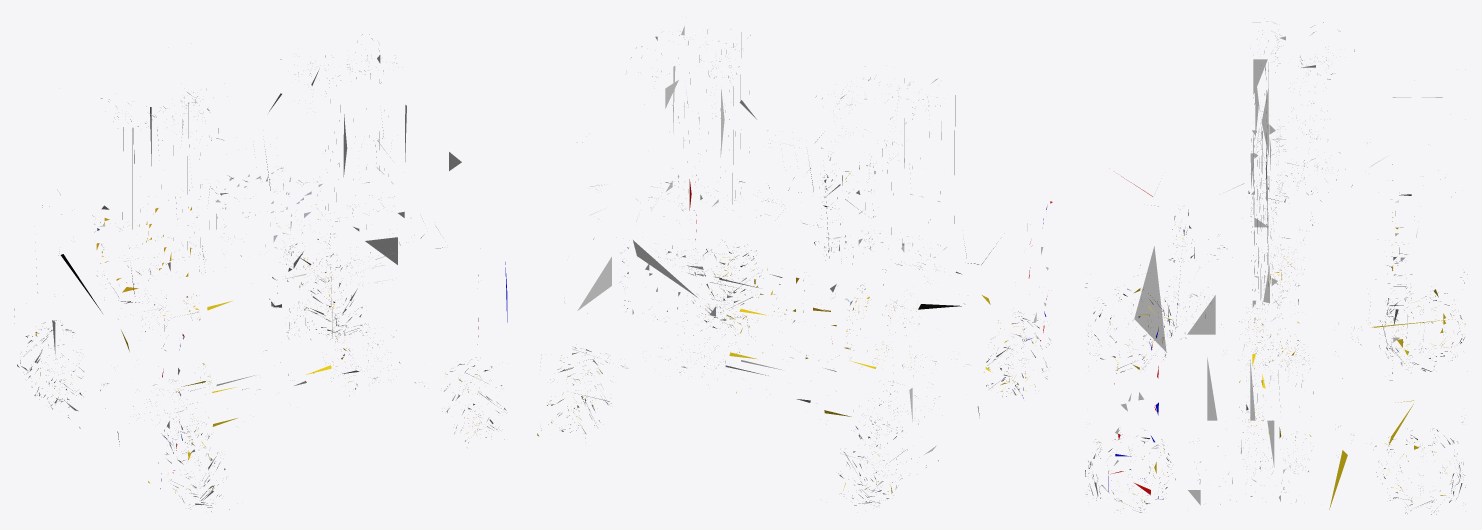
The model's file is Assembly 1 - Into the Deep-fresh-medium.glb.
The picture shows the model from 3 angles, left to right: view 1: azimuth 30°, elevation 25°; view 2: azimuth 150°, elevation 25°; view 3: azimuth 270°, elevation 25°; orthographic projection. The views are drawn at different scales.
Visible parts, largest first — view 1: world; view 2: world; view 3: world.
Boxes of the visible parts, box(x1,y1,x2,y2) form: world: box(14, 34, 507, 511); world: box(537, 16, 1052, 514); world: box(1085, 18, 1467, 514).
Size of the model in its own units: 0.4036 by 0.412 by 0.4001.
